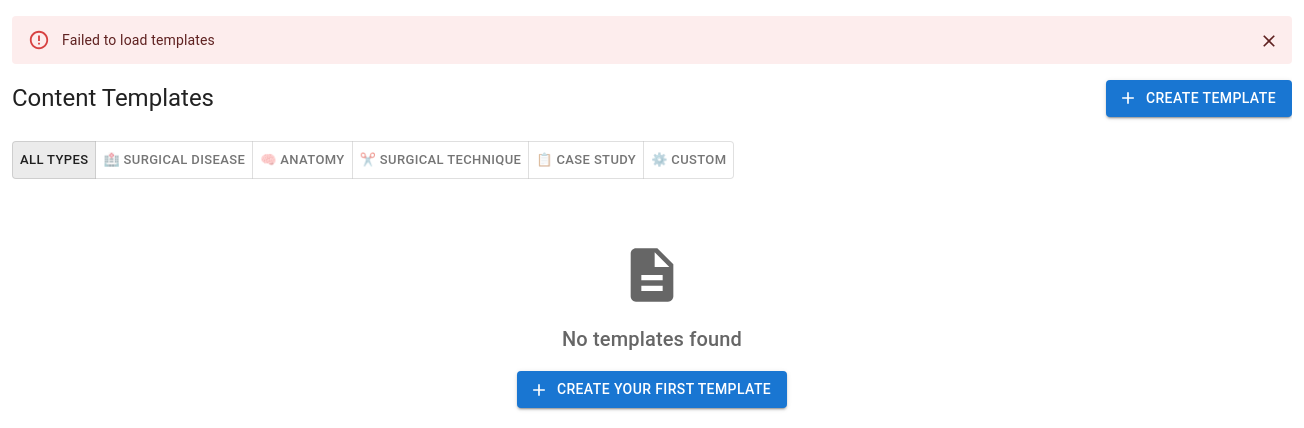
Test: TemplateSelector Component › Error Handling › should allow dismissing error alert
Expected: the text "Failed to load templates" is shown, [62,32,215,48]
# MUI Alert close button
Click the button named "close" at (1269, 41), box [1254,26,1284,56]
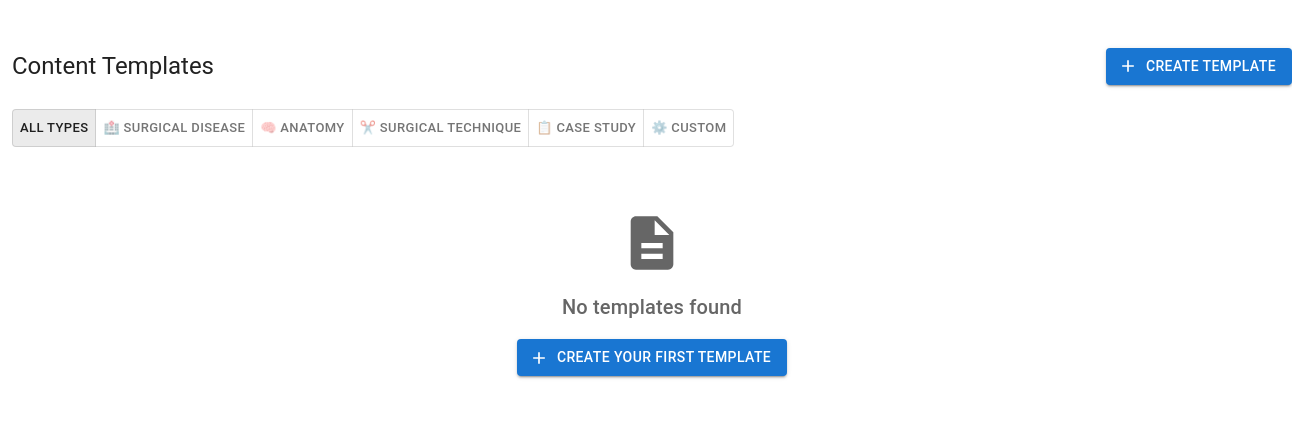
Result: the text "Failed to load templates" is gone
